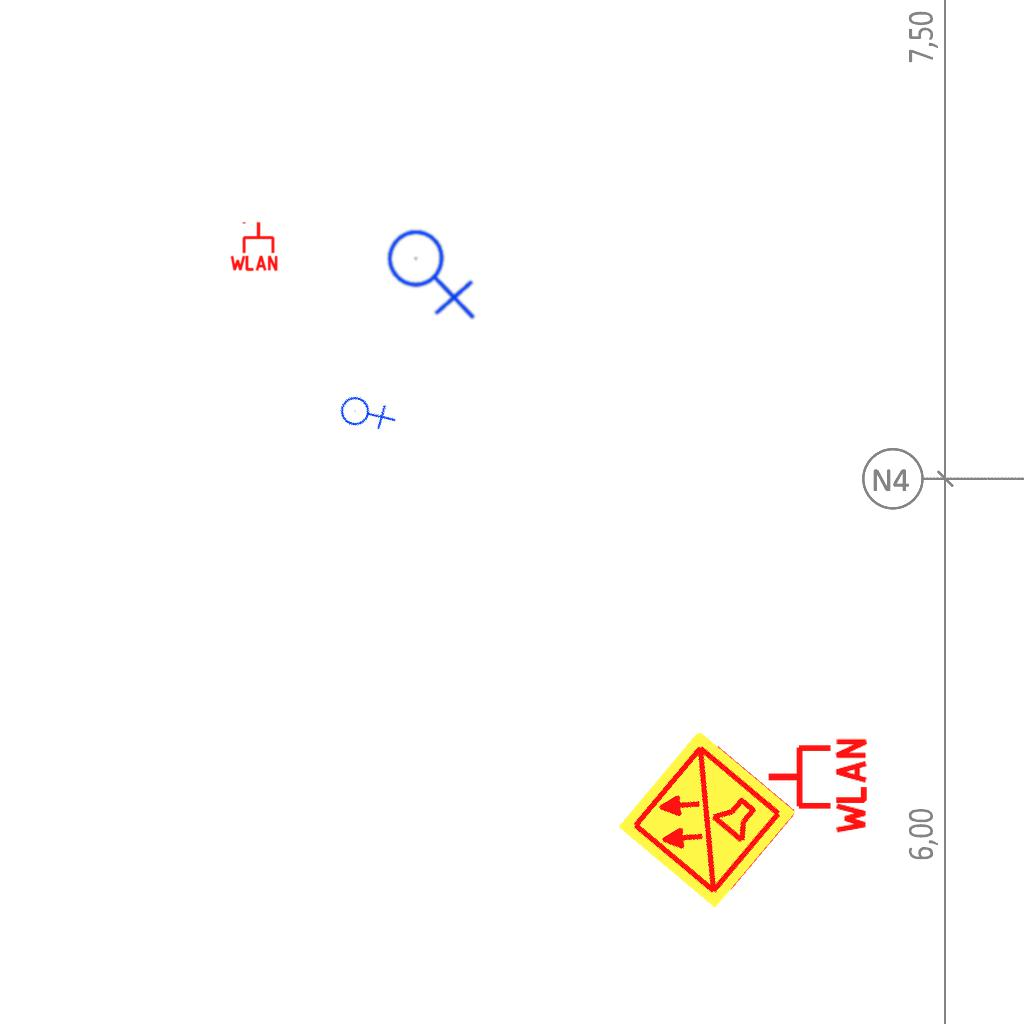Elektroanschluss_allgemein_230V_Geraeteanschlussdose_230V: (386, 221, 480, 320), (332, 378, 399, 445)
OKW_Multisensormelder_(Kombination_optischer_Rauch-Kahlenmonoxid_Waerme-Melder): (614, 726, 800, 912)
WLAN: (764, 734, 869, 838), (228, 220, 280, 272)
